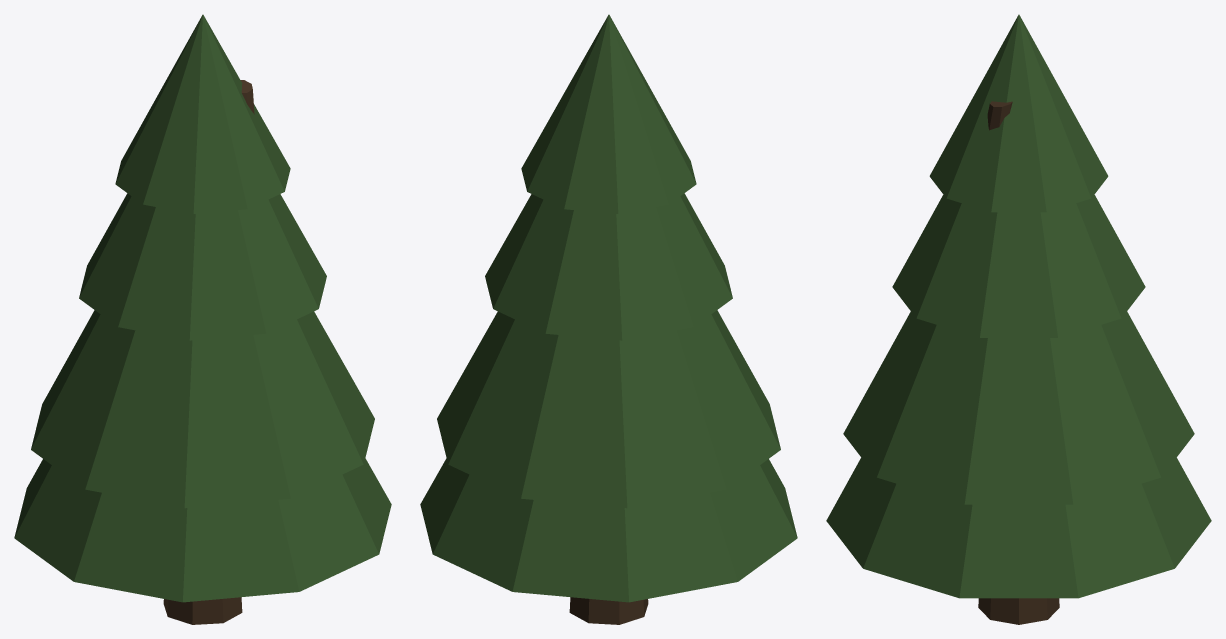
The model's file is tree2.fbx.
3 views of the same model, side by side, from view 1: azimuth 30°, elevation 25°; view 2: azimuth 150°, elevation 25°; view 3: azimuth 270°, elevation 25° (orthographic).
Visible parts, largest first — view 1: Cone, Cylinder; view 2: Cone, Cylinder; view 3: Cone, Cylinder.
Boxes of the visible parts, x1,y1,x2,y2 form: Cone: [14, 14, 391, 602]; Cylinder: [163, 80, 254, 624]; Cone: [420, 14, 797, 602]; Cylinder: [569, 597, 648, 624]; Cone: [826, 14, 1211, 598]; Cylinder: [978, 101, 1059, 624].
Bounding box in the file's own units: 409 × 732 × 431.
